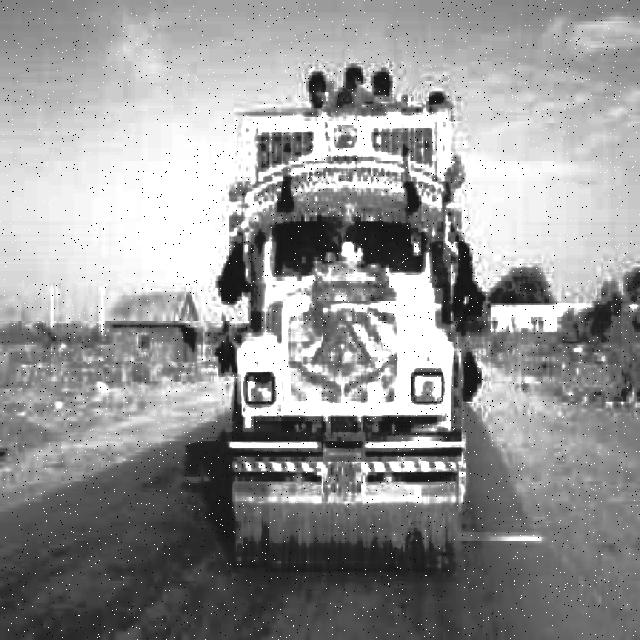HCV: (242, 134, 463, 558)
